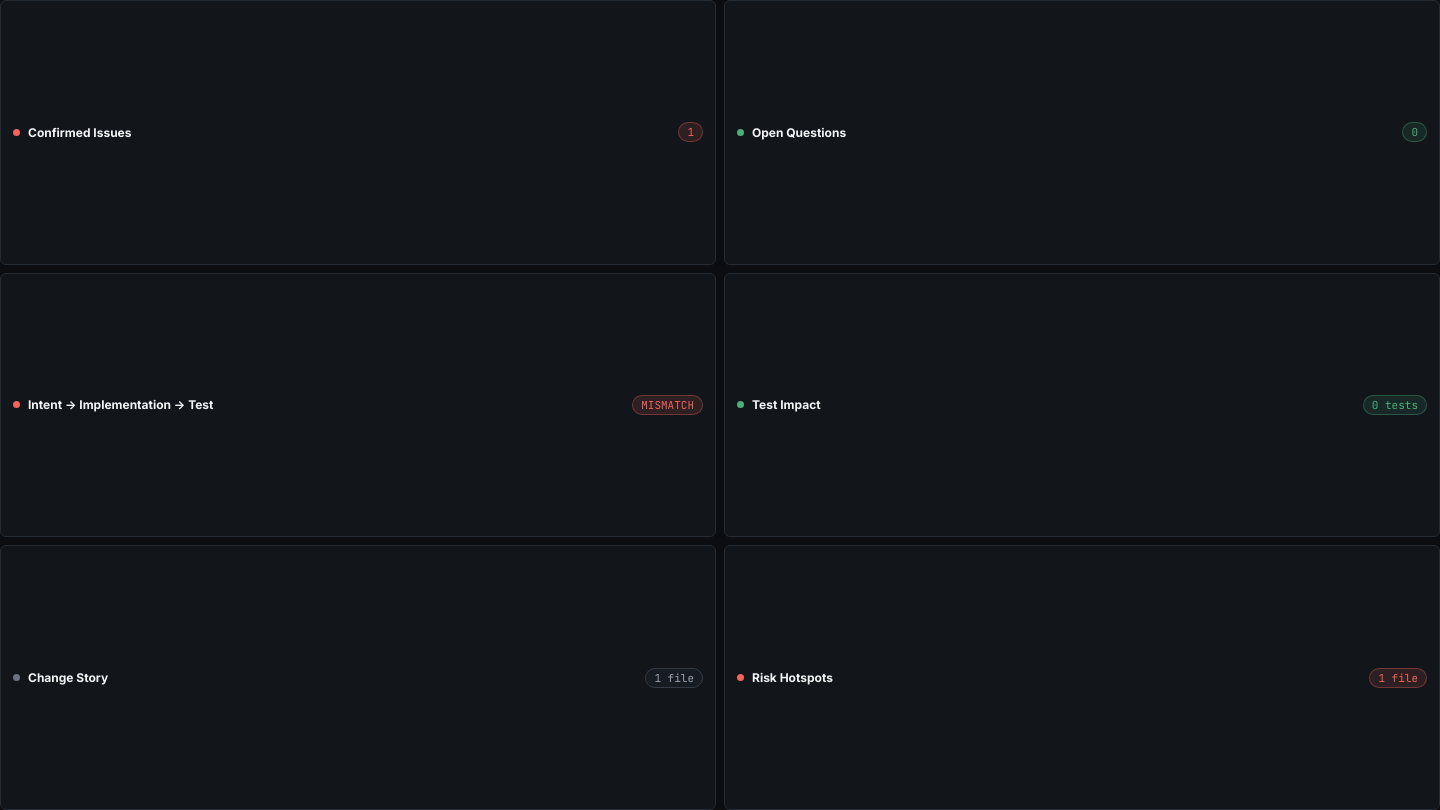
Test: ReviewSectionGrid › opens the real detail view in an overlay when a card is clicked, and closes it again
The width and height of the screenshot is (1440, 810).
Click the button "Confirmed Issues 1": x=358, y=132 [0,0,716,265]
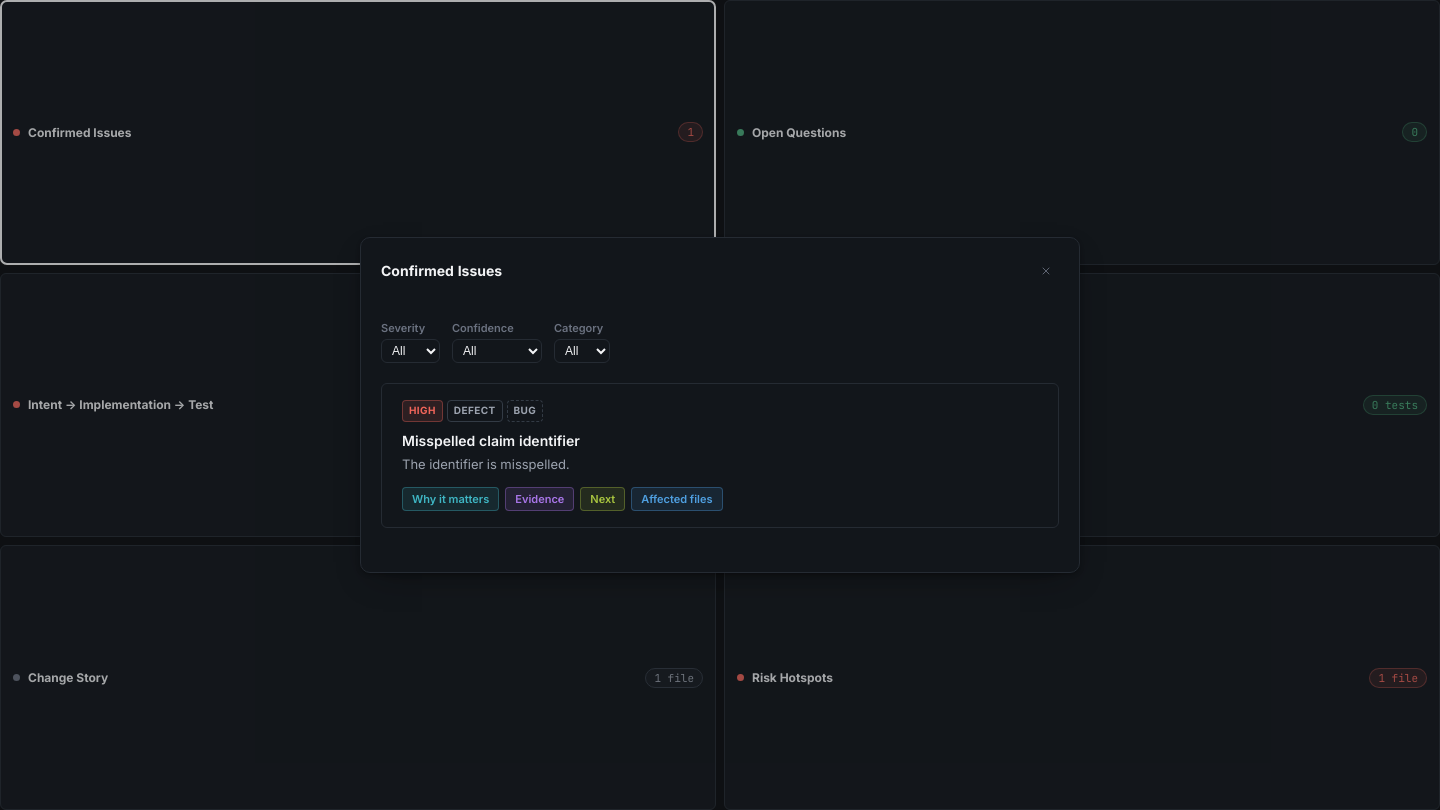
Check: the dialog "Confirmed Issues" is shown, box [360,237,1080,573]
Check: the text "The identifier is misspelled." is shown, box [402,456,570,472]
Click the button named "Close": x=1046, y=271 [1033,258,1059,284]
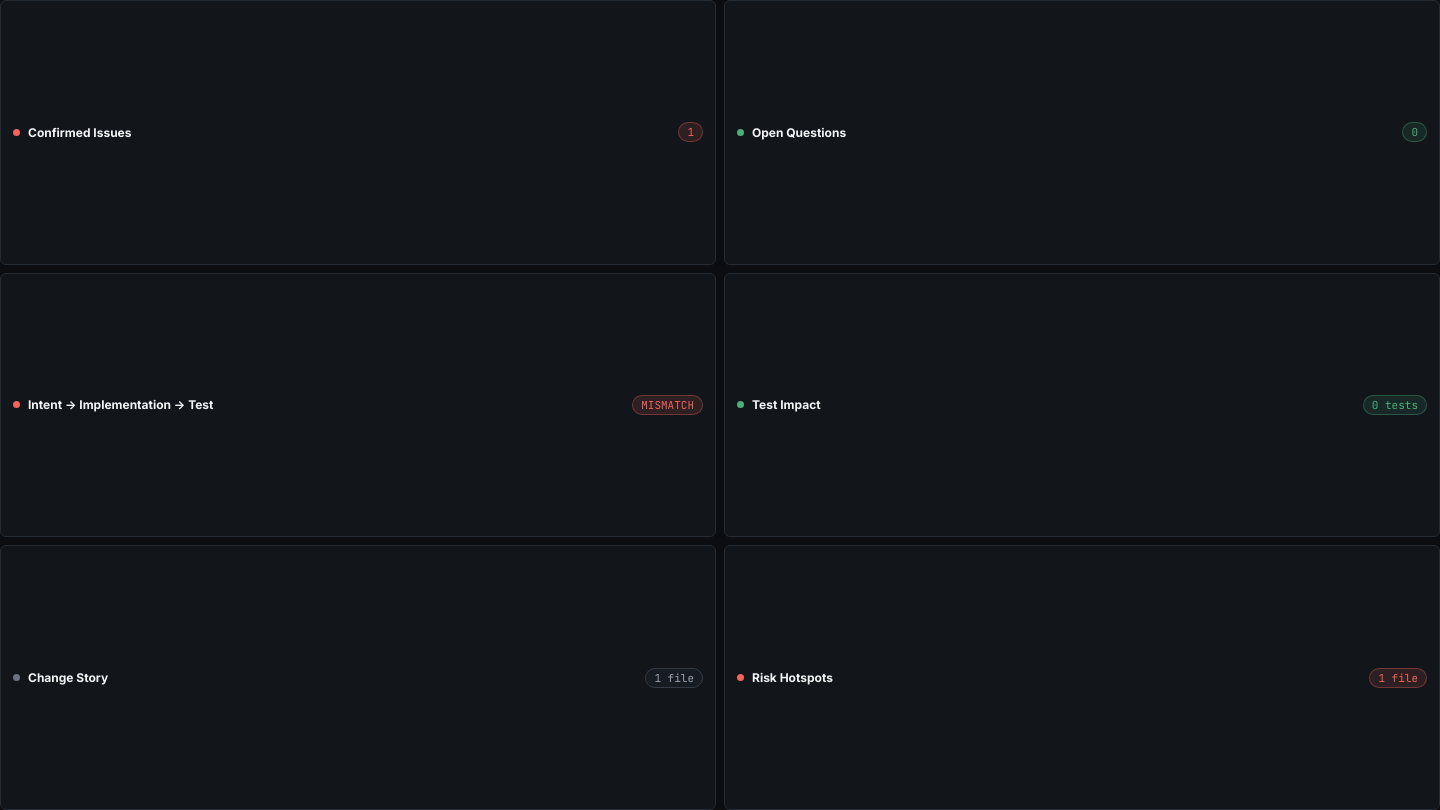
Check: the dialog is gone
